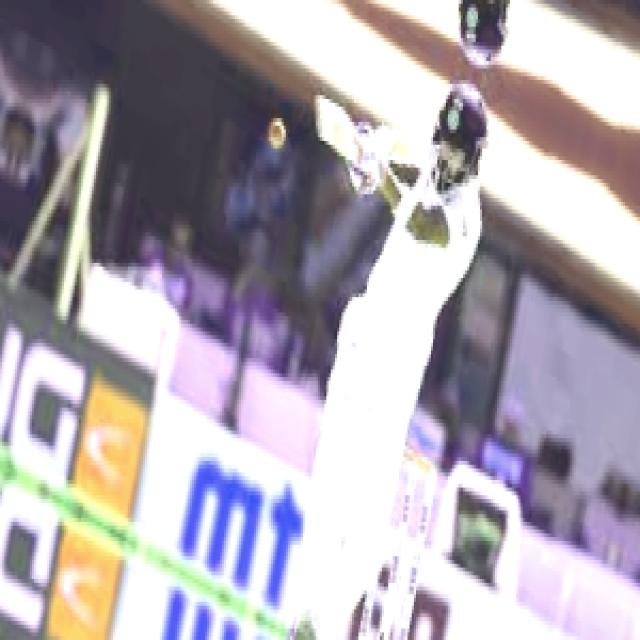toe: (311, 94, 333, 146)
